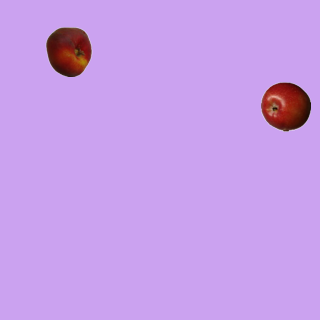Apple Braeburn: (260, 81, 310, 131)
Nectarine Flat: (43, 26, 93, 76)
